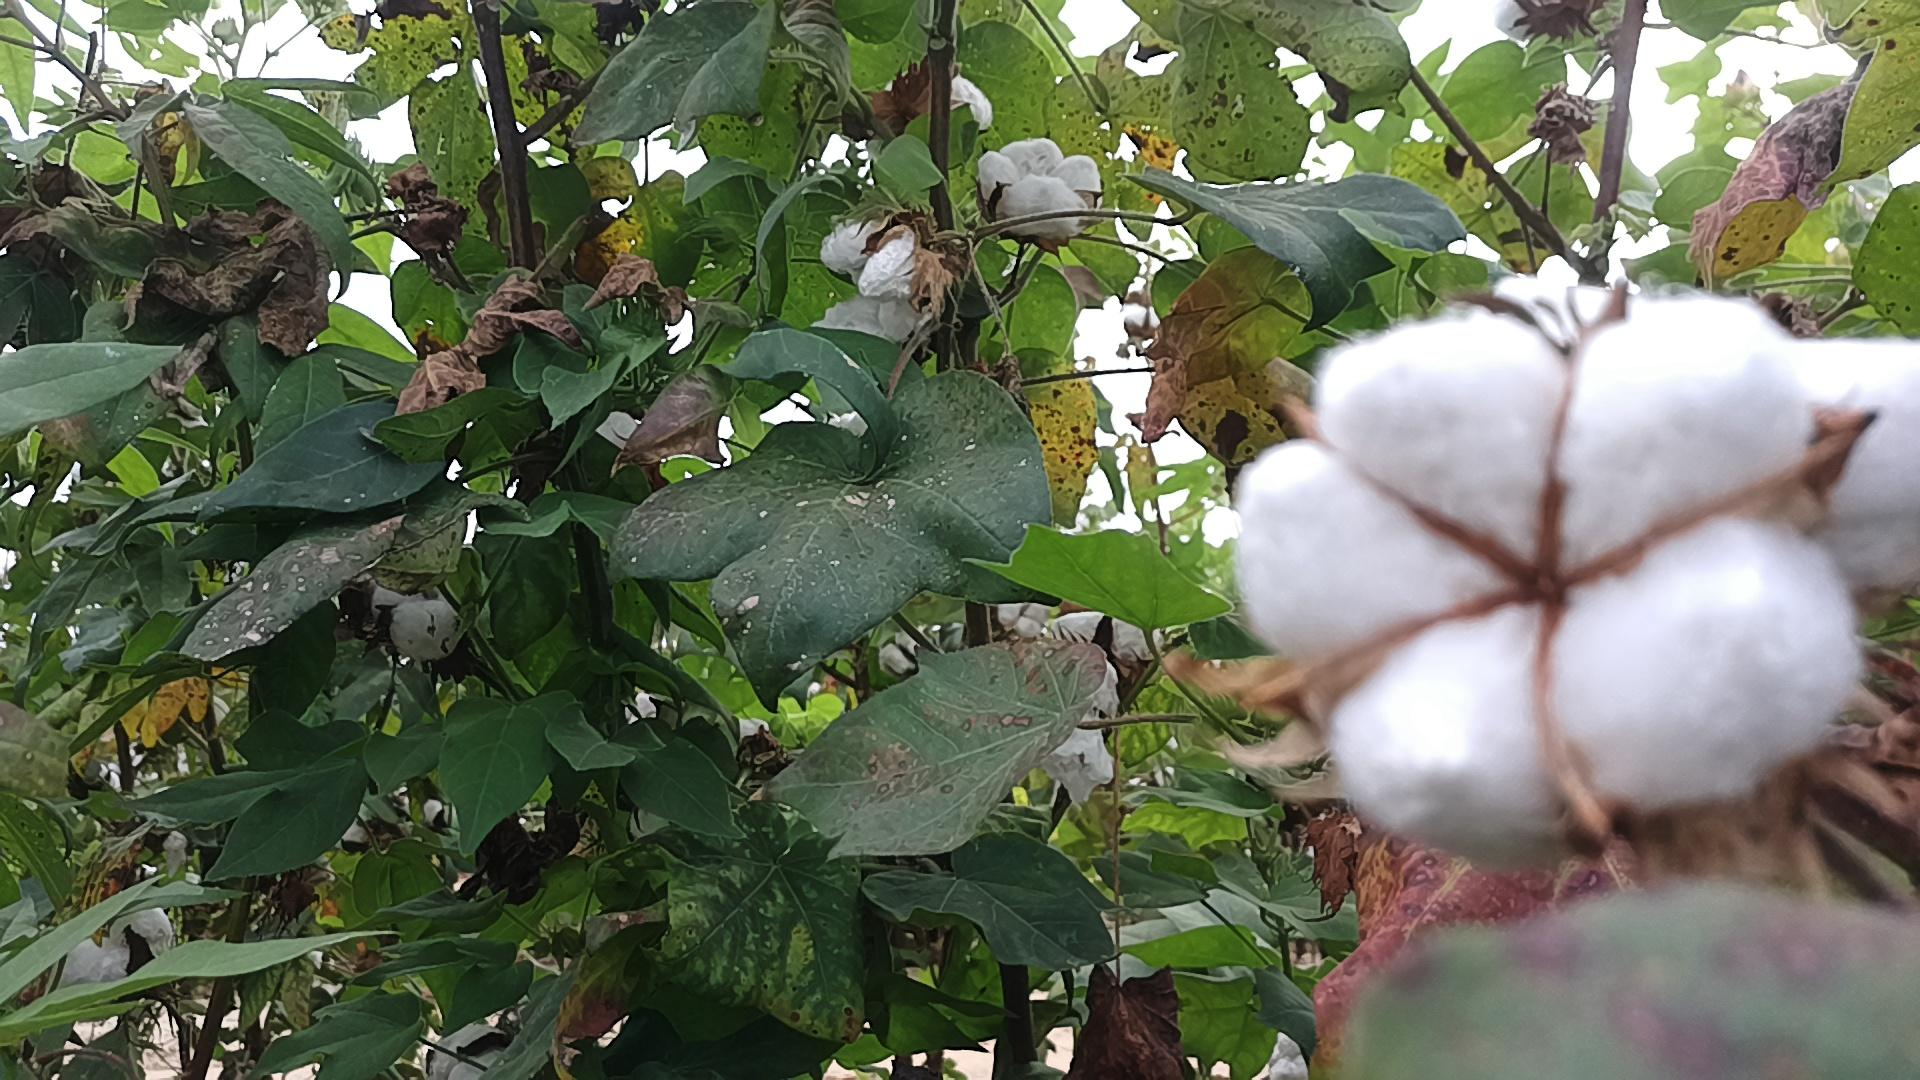cotton_ready: (1233, 301, 1862, 861), (1797, 334, 1920, 589), (818, 218, 928, 334), (975, 141, 1100, 237)
